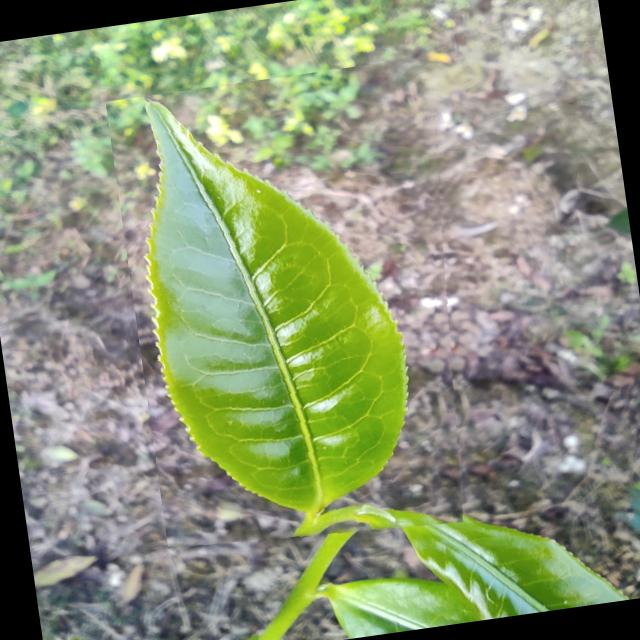Category B(2-4 days): (104, 56, 493, 564)
